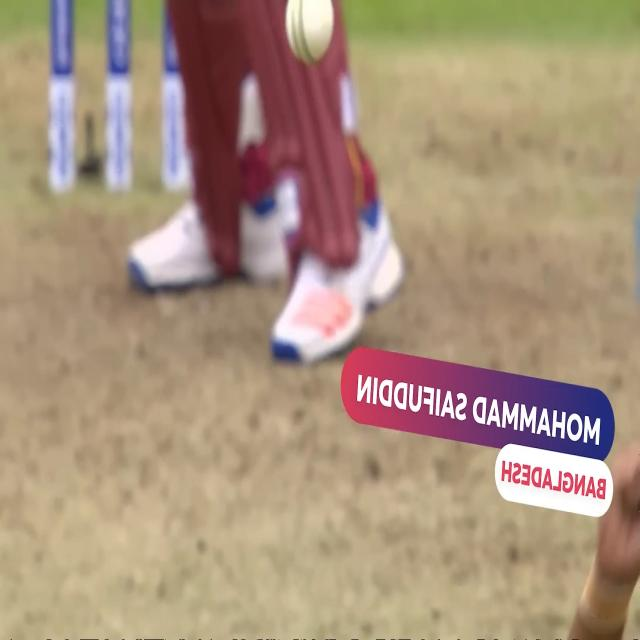ball: (284, 0, 336, 61)
